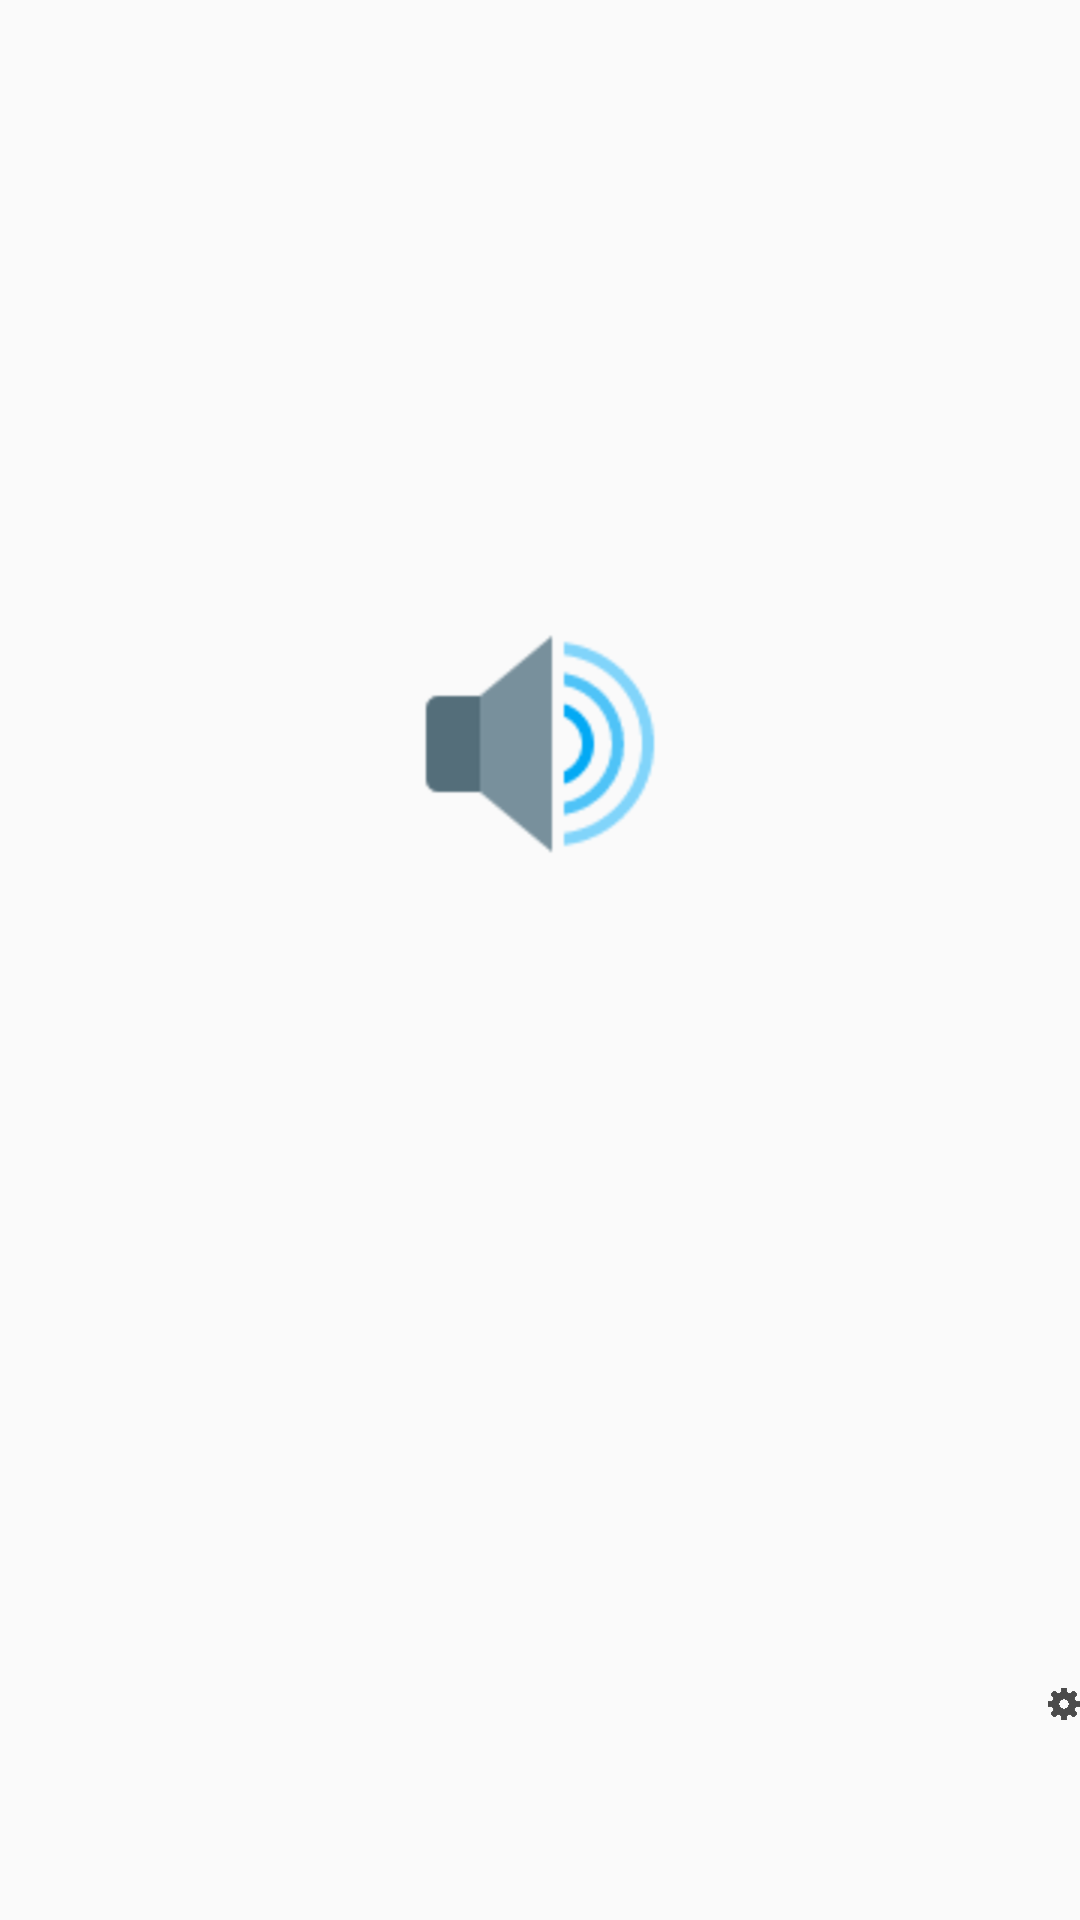

Screen size 1080px×1920px. Icon name, then its box in pixels as (x1, y1, x2, y2):
widget setting: (1048, 1688, 1080, 1720)
